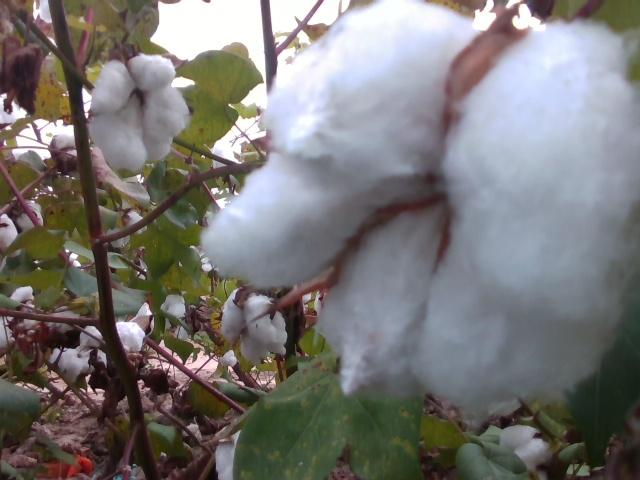cotton_ready: (201, 0, 640, 418), (89, 54, 191, 174), (218, 291, 290, 370)
